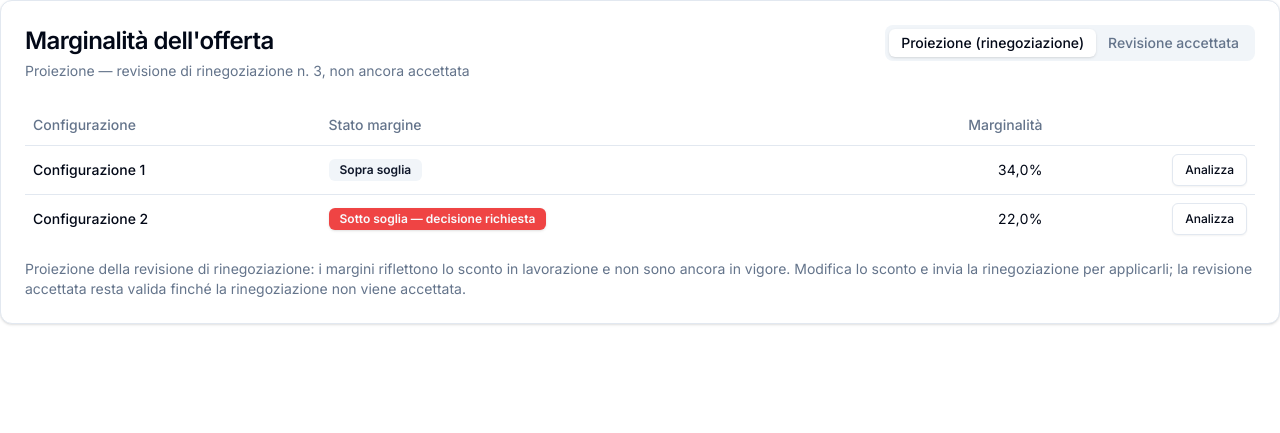
Test: OfferMarginOverview — revision selector › switching to the accepted tab restores the accepted rows and links, absorb stays suspended
The width and height of the screenshot is (1280, 433).
Click the tab "Revisione accettata".
click(1174, 43)  # box [1096, 29, 1251, 57]
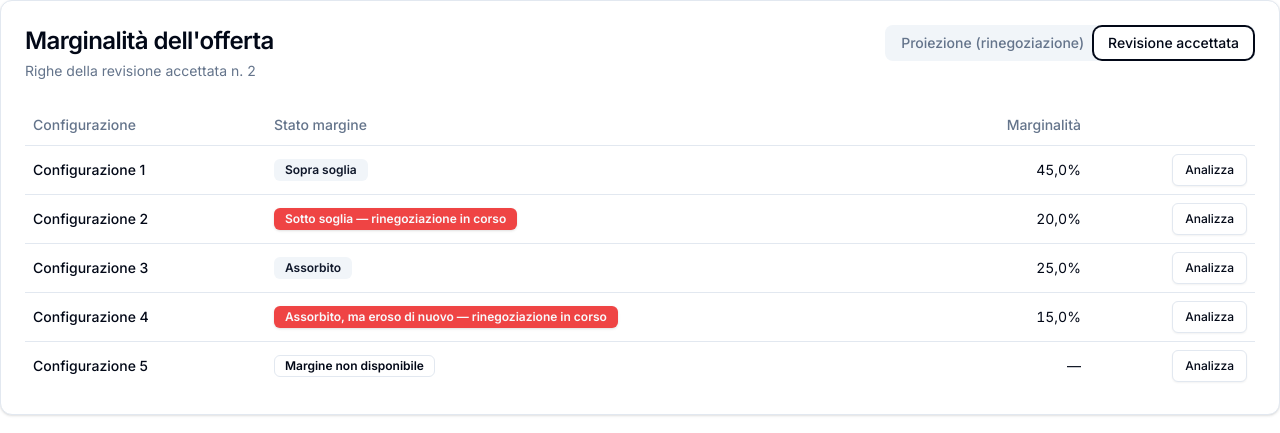
Expected: the text "Proiezione della revisione di rinegoziazione: i margini riflettono lo sconto in lavorazione e non sono ancora in vigore." is gone
